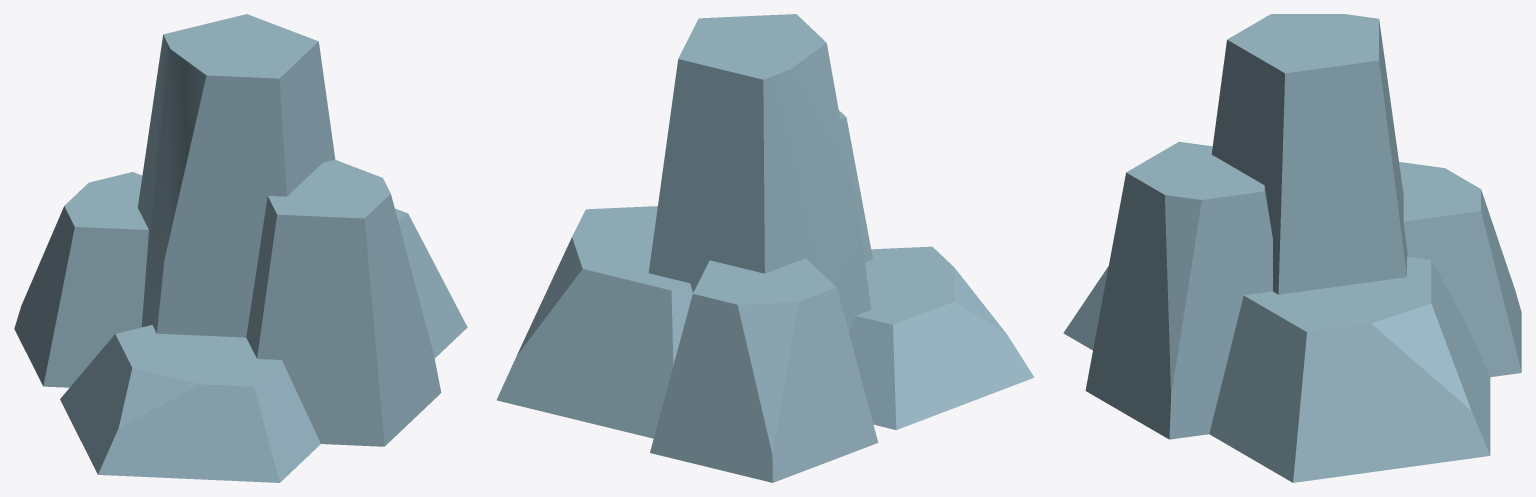
Rendered from rockLarge.fbx.
3 renders of one model, left to right at view 1: azimuth 30°, elevation 25°; view 2: azimuth 150°, elevation 25°; view 3: azimuth 270°, elevation 25°, orthographic. The views are drawn at different scales.
Parts seen in each view (by area): view 1: rockLarge; view 2: rockLarge; view 3: rockLarge.
Boxes of the visible parts, x1,y1,x2,y2 form: rockLarge: (14,14,467,482); rockLarge: (496,14,1034,482); rockLarge: (1063,14,1521,482).
Size of the model in its own units: 15.98 by 11.63 by 14.49.
